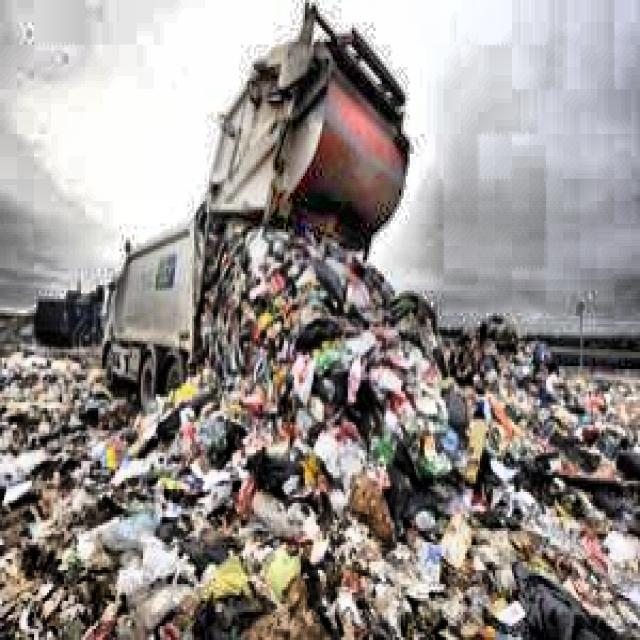garbage: (0, 397, 636, 637), (200, 221, 540, 394), (0, 341, 98, 400), (540, 366, 638, 414)
